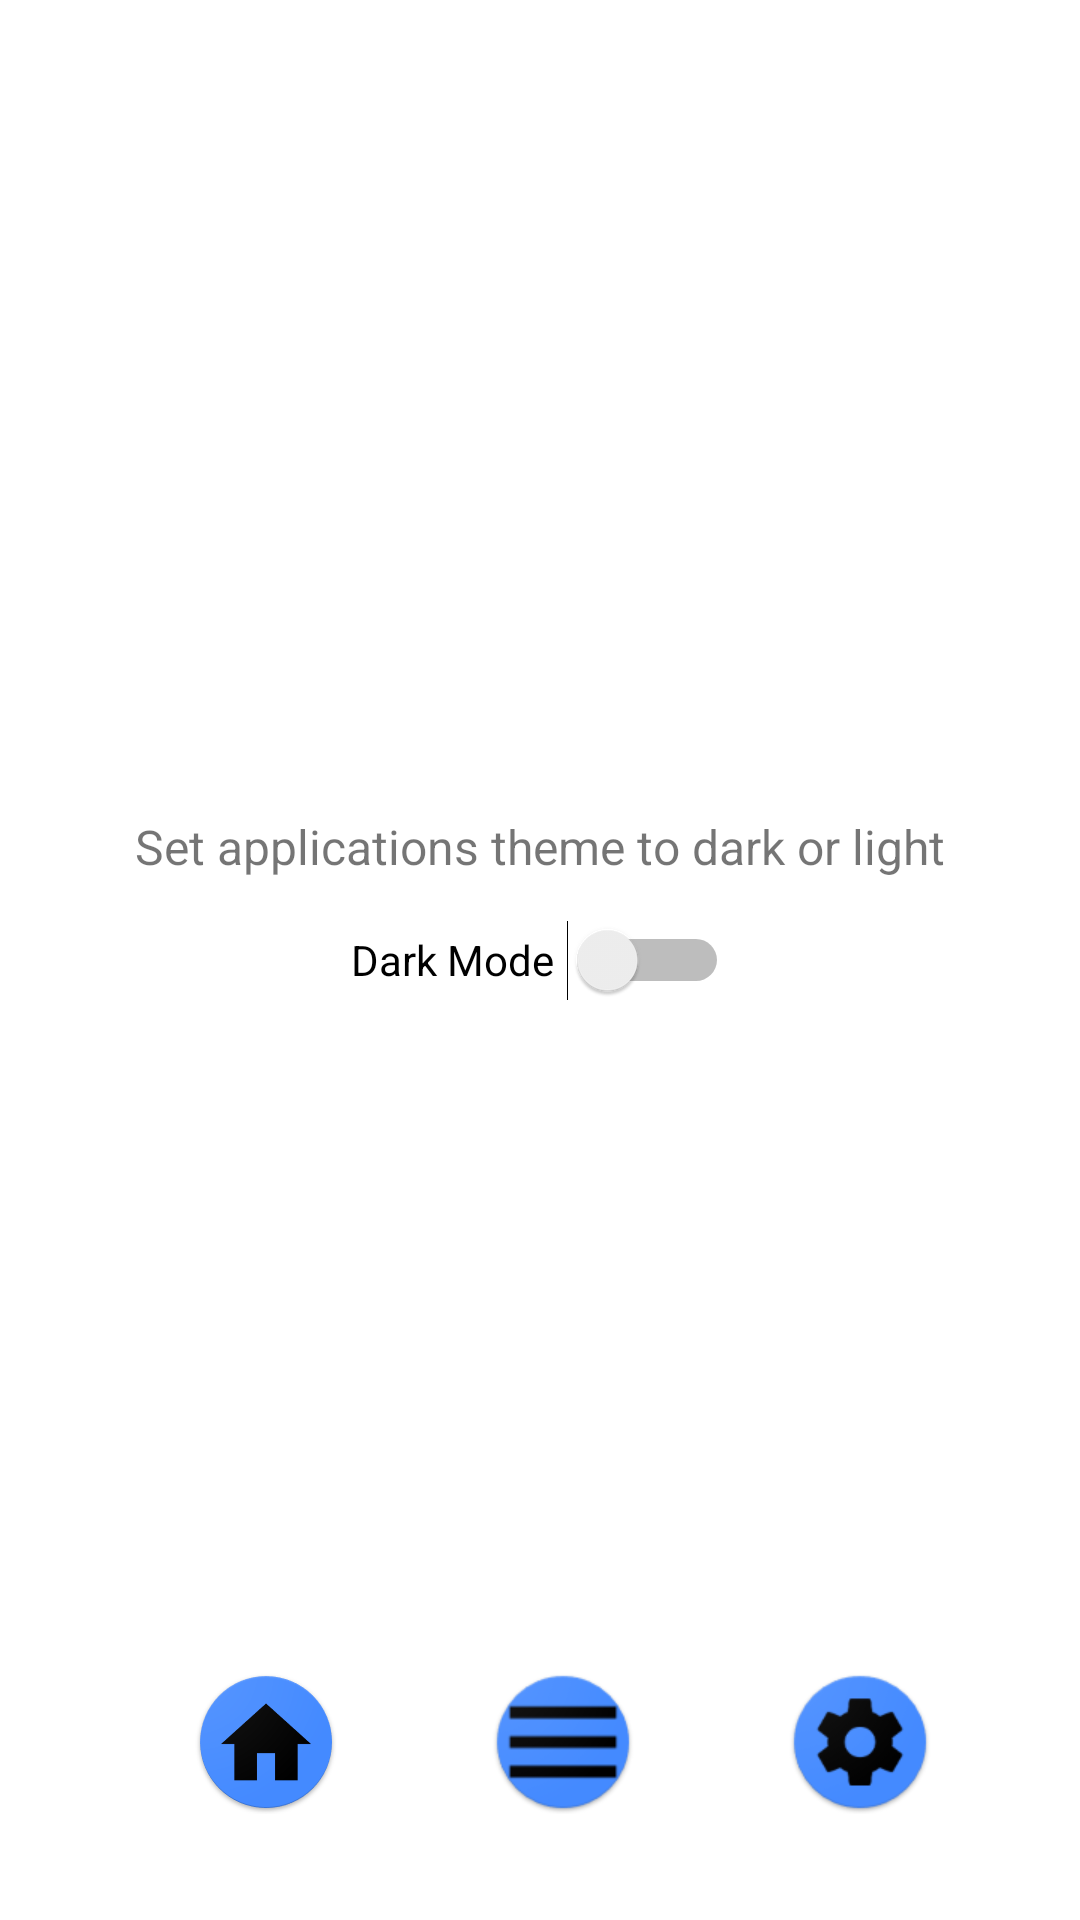

Icon bounding boxes for this 1080*1920 phone screenshot, format [x1, y1, x2, y2]:
menu: [496, 1675, 630, 1811]
